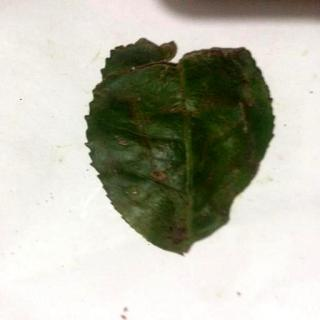Red Leaf Spot: (86, 39, 276, 256)
